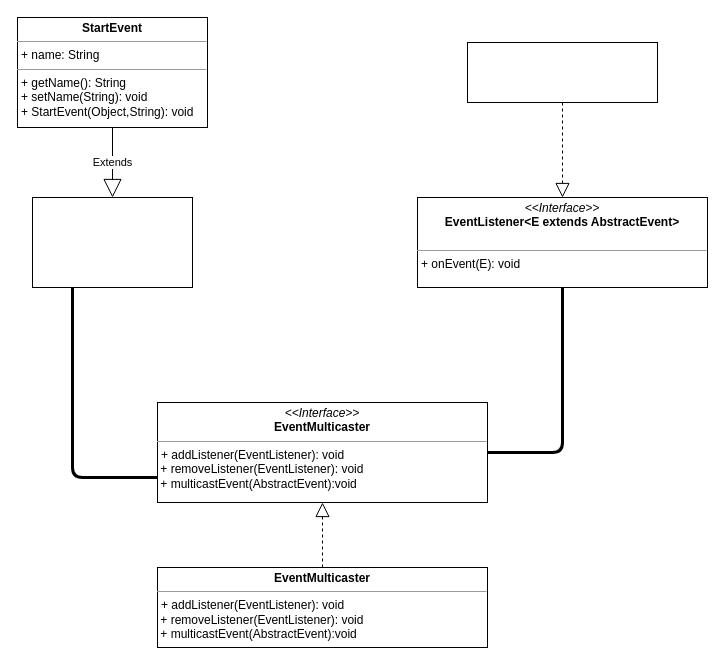
The diagram is 725 pixels wide and 665 high, and some of its shapes have lost their labels. Here are the shapes that lost their labels. From the top down, the centre of each, then its label:
the point at 562,72: StartListener + onEvent(StartEvent): void
the point at 112,242: AbstractEvent + source: Object + getSource(): Object
